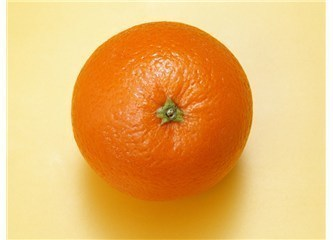orange: (71, 22, 255, 200)
